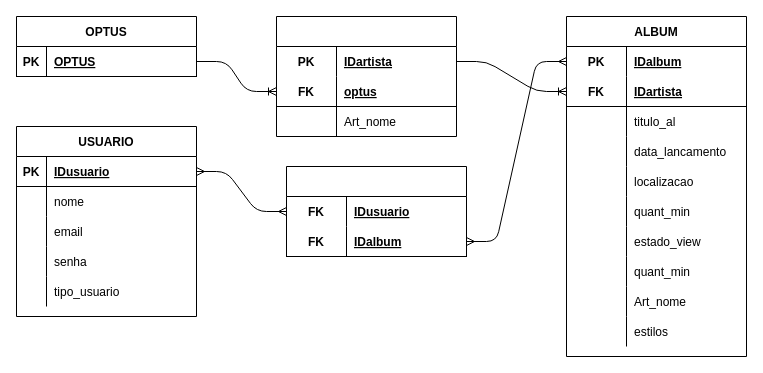
Some shapes in this 763 by 373 pixel diagram are drawn without their labels. Here are the shapes that lost their labels. From the top down, the box of each, then its label:
(276, 16, 456, 136): ARTISTAS
(286, 166, 466, 256): ACESSO
